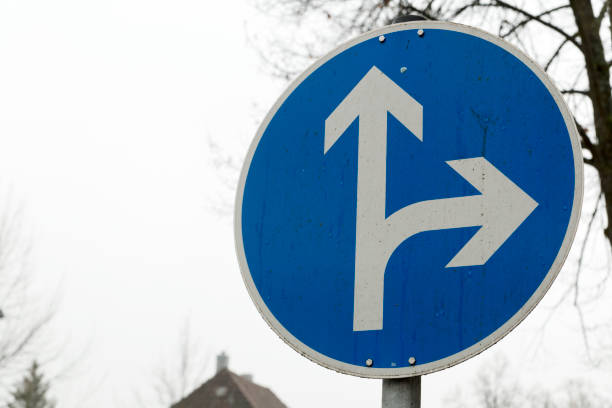ileri_veya_saga: (233, 24, 581, 375)
